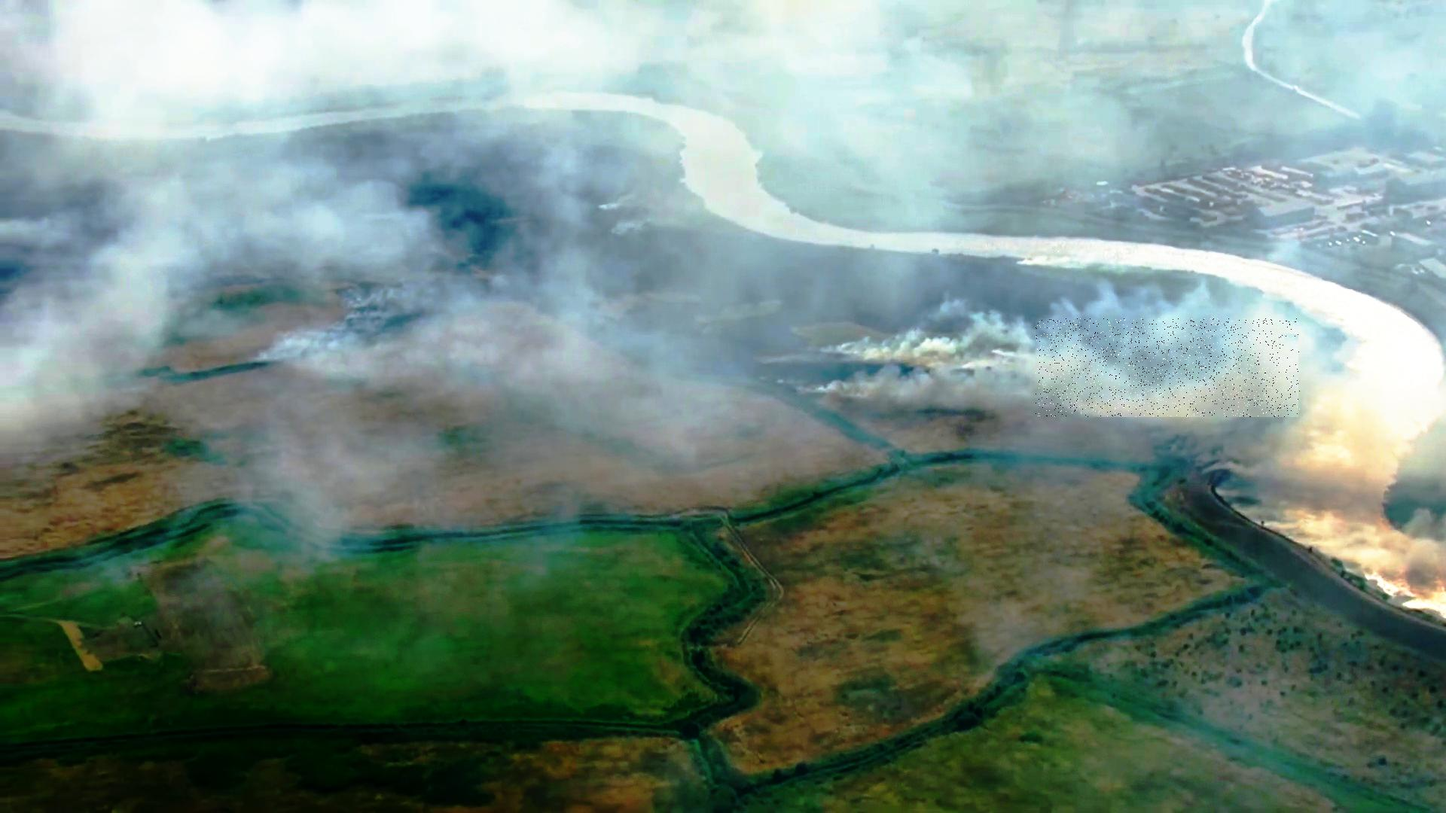smoke: (1036, 319, 1300, 417)
